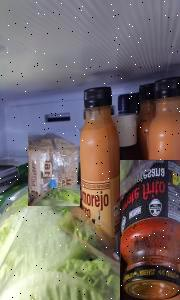Lechuga/Endivia: (0, 181, 151, 300)
Pan de sandwich: (28, 132, 80, 206)
Salsa de tomate: (120, 160, 180, 300)
